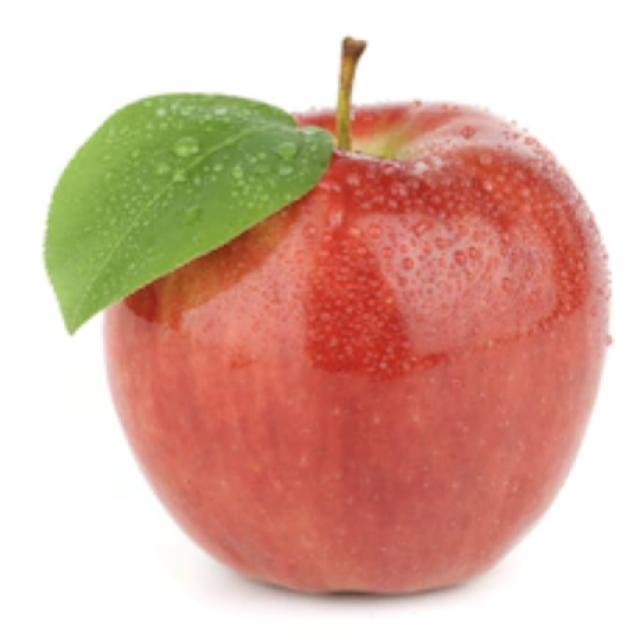Apple: (49, 35, 613, 598)
